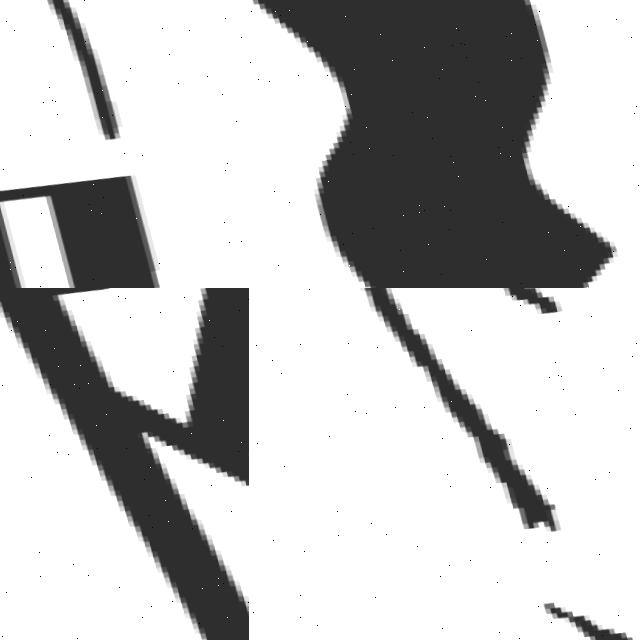E: (0, 164, 154, 288)
I: (329, 288, 640, 640)
K: (0, 288, 249, 640)
S: (249, 0, 640, 288)
